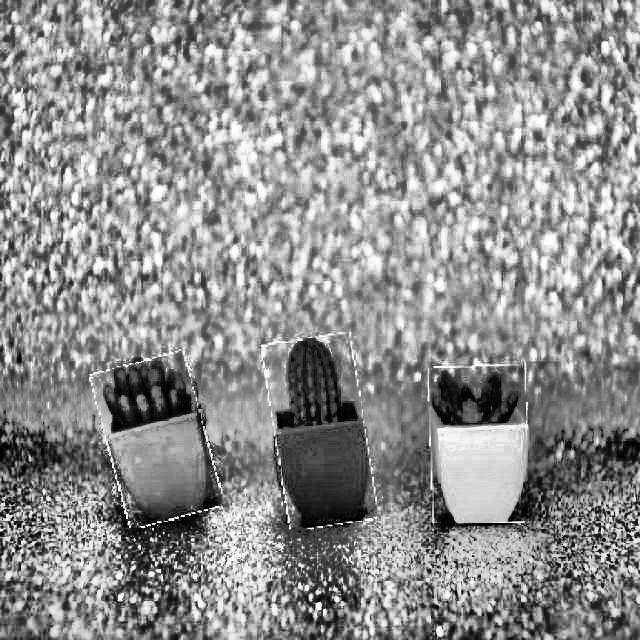plants: (268, 336, 372, 529), (98, 356, 214, 524), (429, 366, 529, 524)
